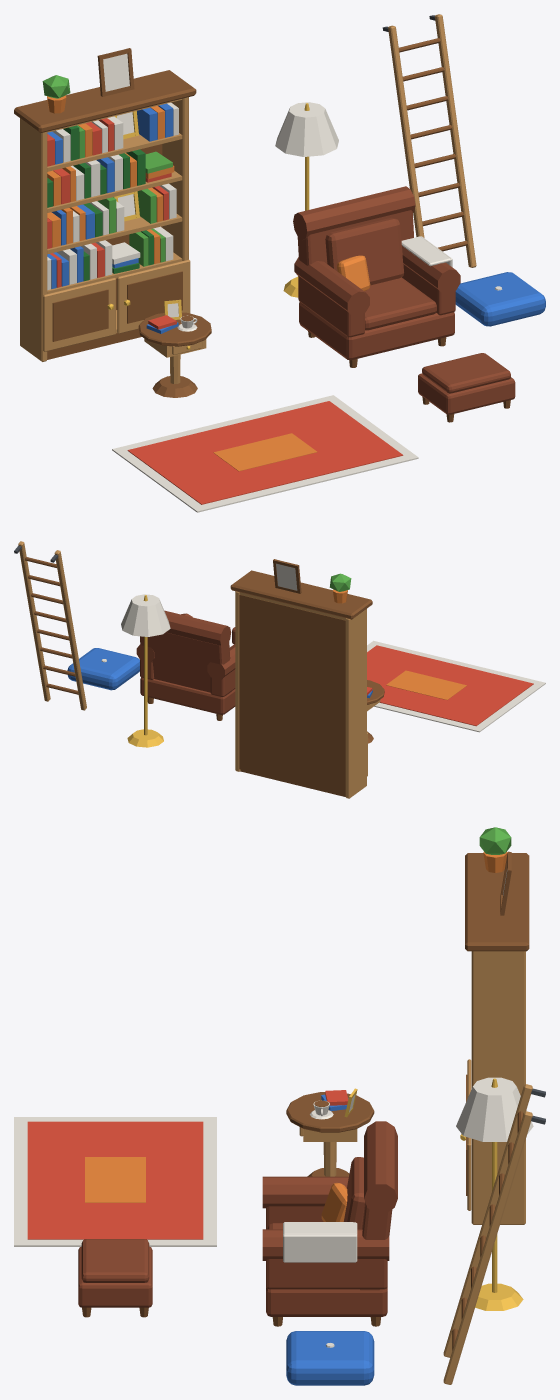
File: cosy-reading-room.glb
3 views of the same model, one above another, from view 1: azimuth 30°, elevation 25°; view 2: azimuth 150°, elevation 25°; view 3: azimuth 270°, elevation 25° (orthographic). The views are drawn at different scales.
Parts seen in each view (by area): view 1: Rug_Field, Shelf_Side_L, Shelf_Crown, Rug_Border, Armchair_Base, Armchair_BackCushion, Cushion_Floor_Body, Armchair_BackRoll, Lamp_Shade, Seat, Shelf_Side_R, Footstool_Seat (+25 smaller); view 2: Shelf_Back, Rug_Field, Shelf_Side_L, Armchair_Back, Shelf_Crown, Cushion_Floor_Body, Rug_Border, Armchair_Base, Lamp_Shade, Armchair_BackRoll, Rug_Medallion, Ladder (+10 smaller); view 3: Rug_Field, Shelf_Side_R, Shelf_Crown, Rug_Border, Cushion_Floor_Body, Armchair_Arm_R, Armchair_Base, Lamp_Shade, Footstool_Seat, Armchair_BackRoll, Ladder_Rail_R, Rug_Medallion (+14 smaller).
Part boxes in pixels (x1,y1,x2,y2): Rug_Field: (127,401,403,504); Shelf_Side_L: (20,118,47,361); Shelf_Crown: (14,70,196,132); Rug_Border: (112,395,418,512); Armchair_Base: (299,302,454,360); Armchair_BackCushion: (325,217,403,285); Cushion_Floor_Body: (455,272,545,326); Armchair_BackRoll: (293,186,415,240); Lamp_Shade: (275,102,338,156); Seat: (365,277,436,330); Shelf_Side_R: (162,97,188,260); Footstool_Seat: (422,353,510,393); Shelf_Back: (239,594,345,794); Rug_Field: (367,645,533,726); Shelf_Side_L: (345,609,366,798); Armchair_Back: (140,632,231,695); Shelf_Crown: (230,570,372,619); Cushion_Floor_Body: (67,648,139,690); Rug_Border: (367,640,545,732); Armchair_Base: (140,677,235,714); Lamp_Shade: (121,594,170,636); Armchair_BackRoll: (164,610,231,647); Rug_Medallion: (386,670,466,699); Ladder: (25,557,78,694); Rug_Field: (27,1121,203,1239); Shelf_Side_R: (471,951,525,1224); Shelf_Crown: (465,853,529,951); Rug_Border: (14,1117,216,1246); Cushion_Floor_Body: (286,1331,374,1385); Armchair_Arm_R: (266,1259,387,1289); Armchair_Base: (266,1286,387,1316); Lamp_Shade: (456,1077,533,1141); Footstool_Seat: (81,1239,149,1282); Armchair_BackRoll: (364,1121,397,1213); Ladder_Rail_R: (443,1111,532,1384); Rug_Medallion: (85,1157,145,1202).
Size of the model in its own units: 18.95 by 10.78 by 15.73.
